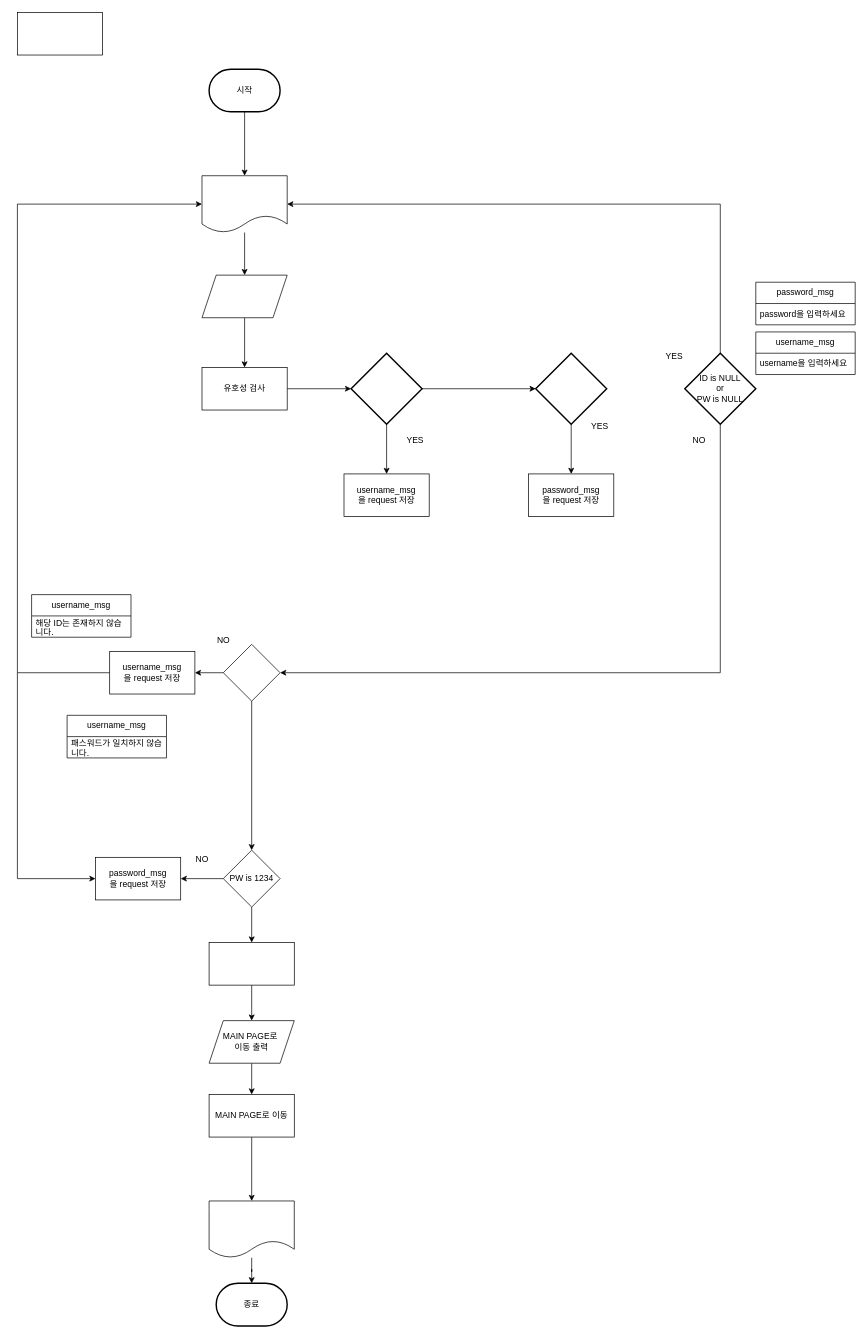
Image size: 868x1339. Some labels were removed from this diagram. Here are the shapes that lost their labels. From the top down, the centre of each, then its label:
(244,204): 로그인 폼 (login_form.jsp)
(244,296): ID/PW 입력
(386,388): ID is NULL
(571,388): PW is NULL
(251,672): ID is admin
(251,963): 사용자 정보를 저장 isAuth/Rike
(251,1229): MAIN PAGE
